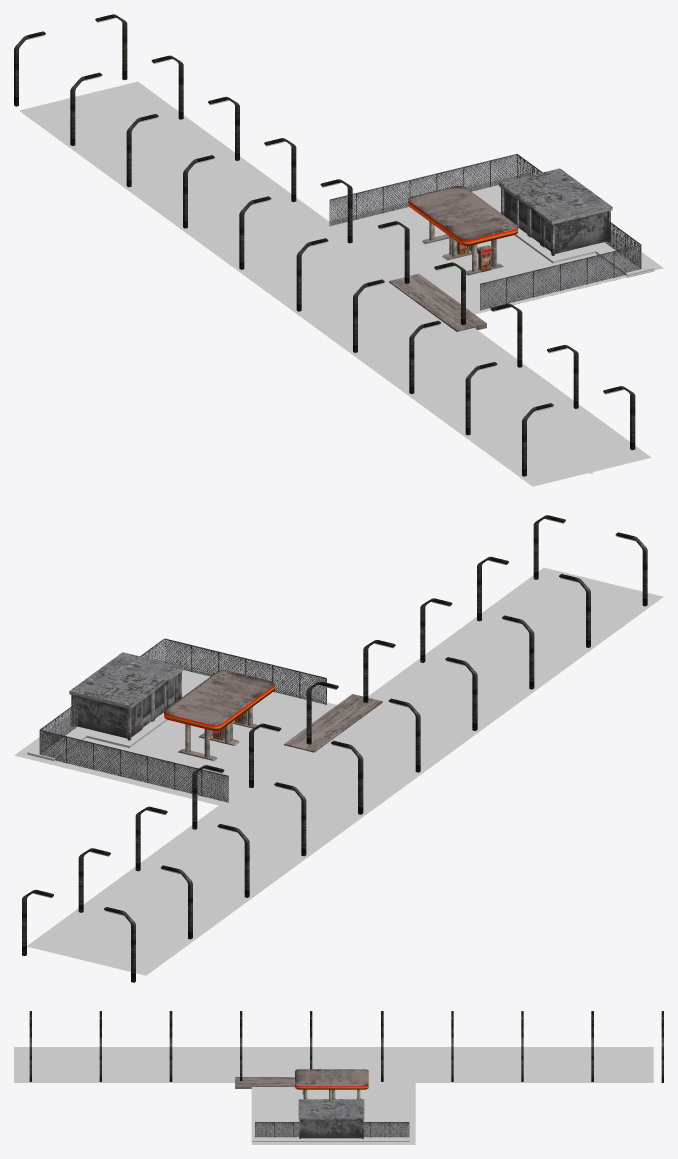
Rendered from GasStation.fbx.
The picture shows the model from 3 angles, top to bottom: view 1: azimuth 30°, elevation 25°; view 2: azimuth 150°, elevation 25°; view 3: azimuth 270°, elevation 25°; orthographic projection. The views are drawn at different scales.
Parts seen in each view (by area): view 1: Plane, Plane.005, Cube.003, Plane.001, Cube.001, Cube.008, Plane.003, Cube.005; view 2: Plane, Plane.005, Cube.003, Plane.001, Cube.008, Cube.001, Plane.003, Cube.005; view 3: Plane, Cube.003, Plane.001, Plane.005, Cube.005, Cube.008, Cube.001, Plane.003.
Boxes of the visible parts, <box> form: Plane: <box>19,81,663,486</box>; Plane.005: <box>329,154,641,312</box>; Cube.003: <box>499,168,612,255</box>; Plane.001: <box>408,186,517,275</box>; Cube.001: <box>14,14,352,269</box>; Cube.008: <box>296,221,635,476</box>; Plane.003: <box>389,274,486,331</box>; Cube.005: <box>500,175,654,277</box>; Plane: <box>14,567,663,975</box>; Plane.005: <box>39,638,326,802</box>; Cube.003: <box>69,652,183,740</box>; Plane.001: <box>164,670,274,760</box>; Cube.008: <box>306,515,647,772</box>; Cube.001: <box>22,723,363,982</box>; Plane.003: <box>284,694,382,752</box>; Cube.005: <box>27,659,182,761</box>; Plane: <box>14,1047,653,1144</box>; Cube.003: <box>298,1099,364,1138</box>; Plane.001: <box>295,1069,368,1099</box>; Plane.005: <box>255,1122,409,1137</box>; Cube.005: <box>252,1119,410,1141</box>; Cube.008: <box>29,1011,312,1081</box>; Cube.001: <box>381,1011,663,1082</box>; Plane.003: <box>235,1077,294,1088</box>.
Size of the model in its own units: 12459 by 2527 by 34969.
